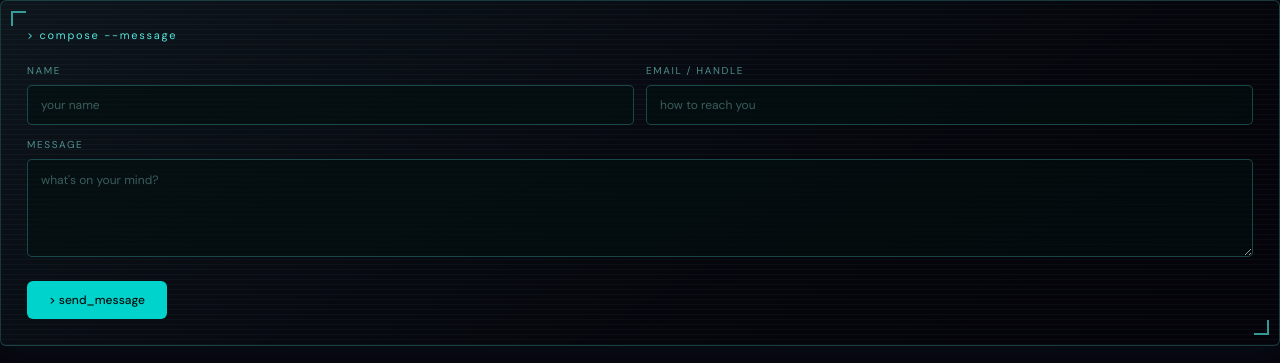
Test case: ContactForm — submission › disables the submit button while the request is in flight
Type "Jane" into the field labelled "NAME" at point(330, 105), box 27,85 -> 634,125
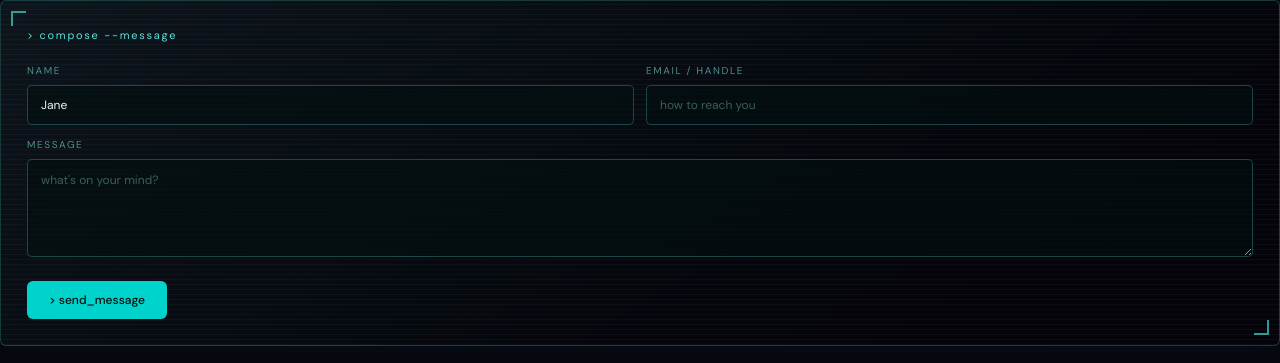
Type "Hello there" into the text box labelled "MESSAGE" at point(640, 208), box 27,159 -> 1253,257
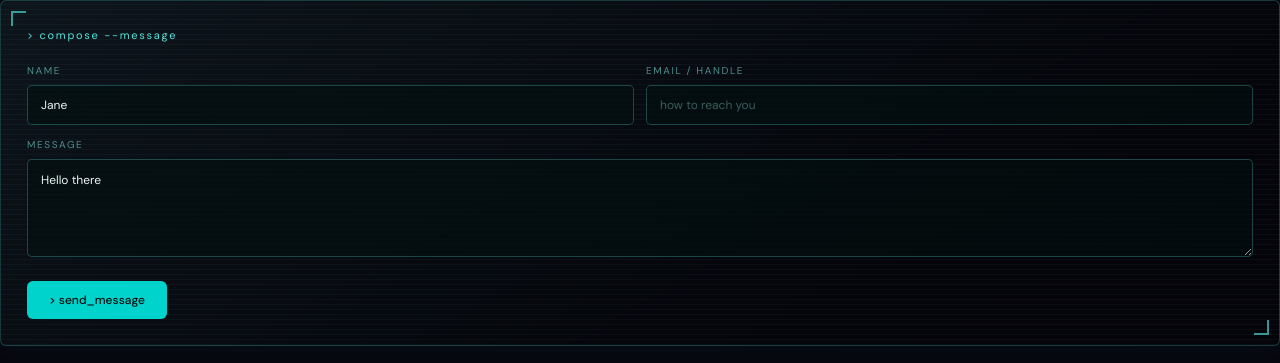
Submit the form with test id "contact-form"
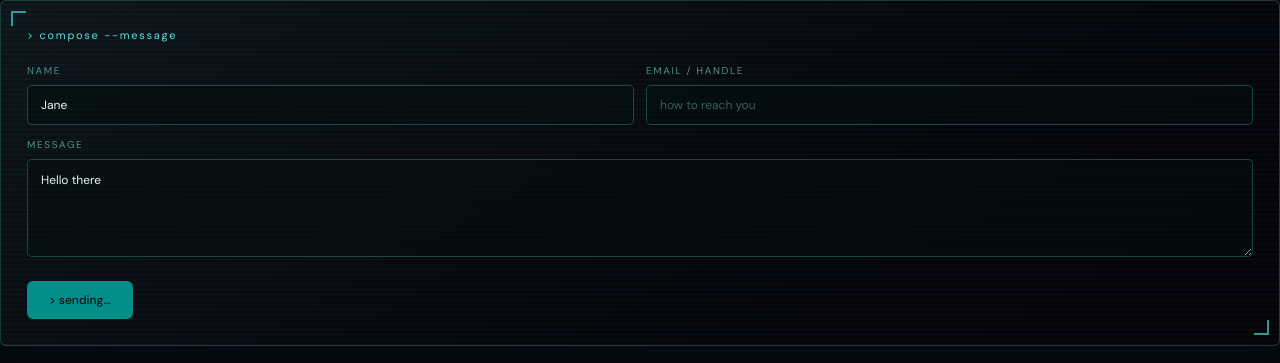
expect the button "> sending…" is disabled: met, box 27,281 -> 133,319
